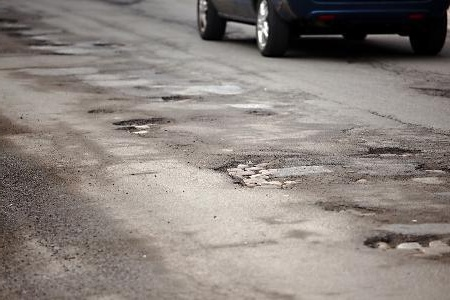pothole: (211, 157, 300, 193), (360, 225, 450, 256), (111, 115, 174, 138), (406, 163, 449, 187), (363, 143, 419, 158), (410, 83, 449, 100), (158, 93, 193, 102)
